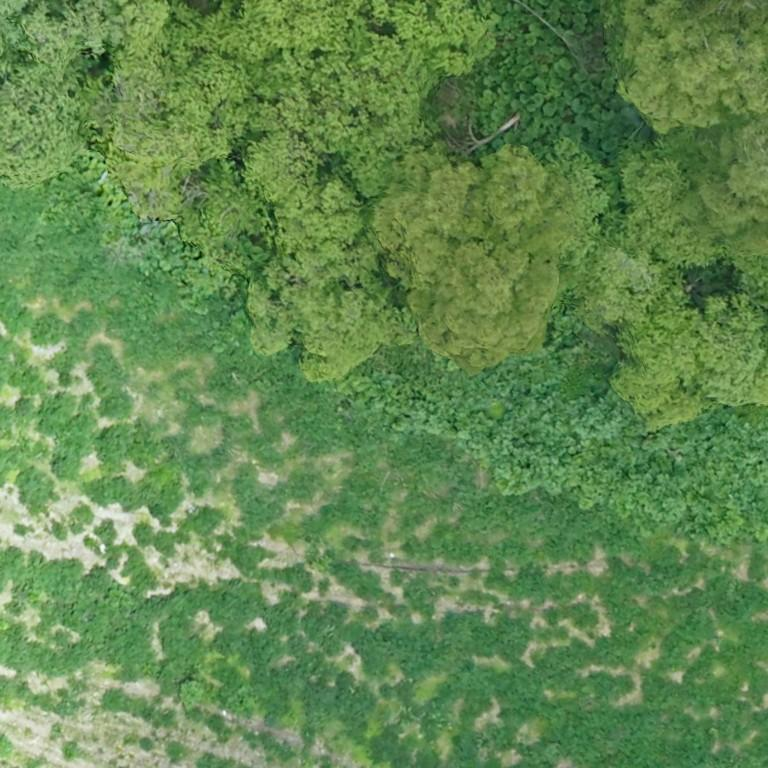hogweed: (337, 344, 767, 539), (85, 175, 236, 307)
